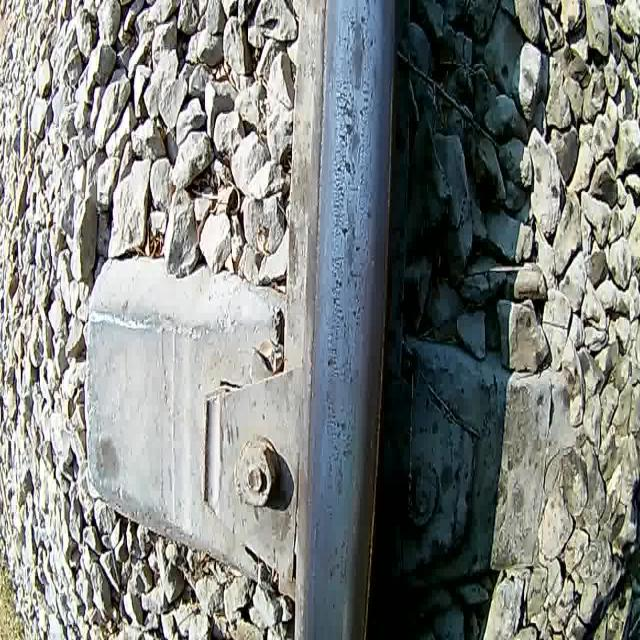Squats: (335, 100, 364, 184), (336, 197, 363, 282), (348, 16, 368, 96)
